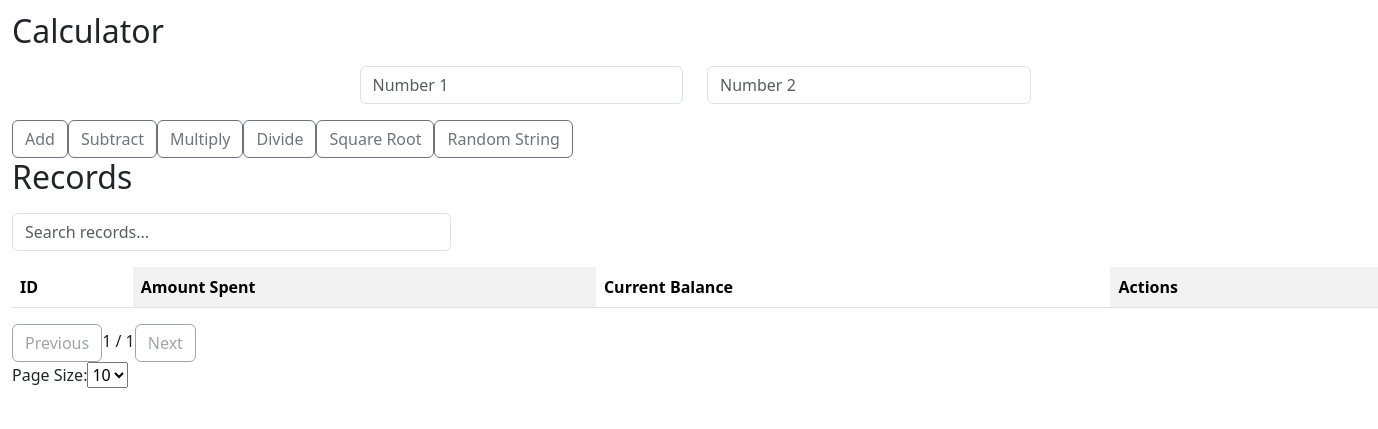
Test: handles division by zero error
This screenshot has width=1378, height=429.
Type "10" into the number field with placeholder "Number 1" at (521, 85), box [360,66,683,104]
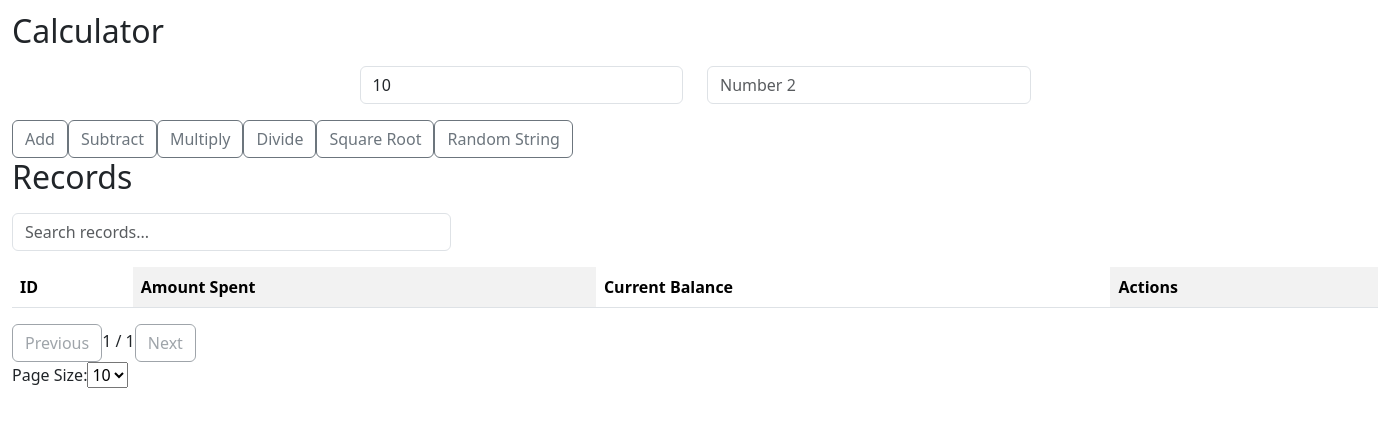
Type "0" into the number field with placeholder "Number 2" at (869, 85), box [707,66,1030,104]
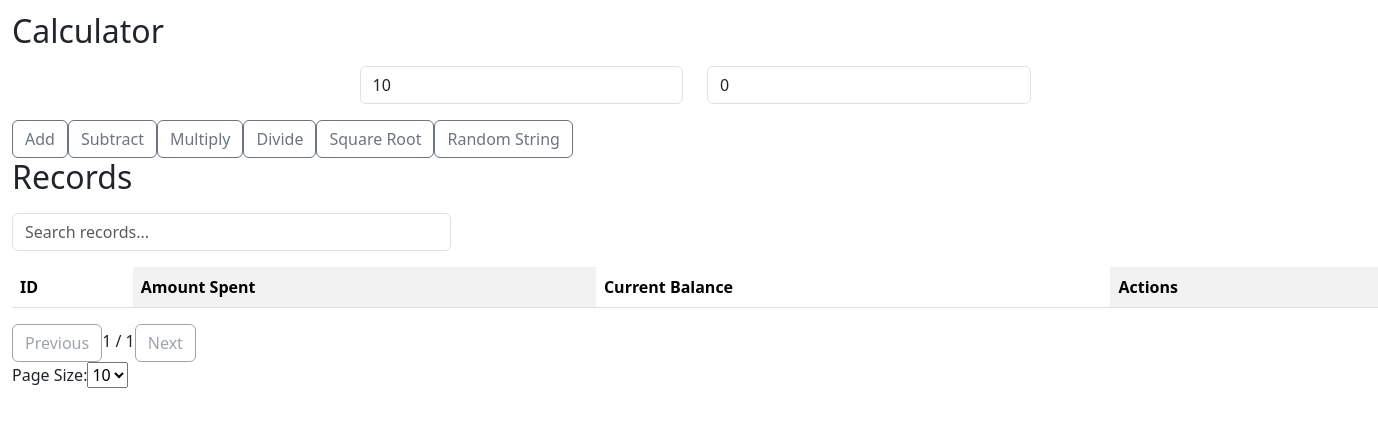
Click the button "Divide" at (280, 139), box [244,120,316,158]
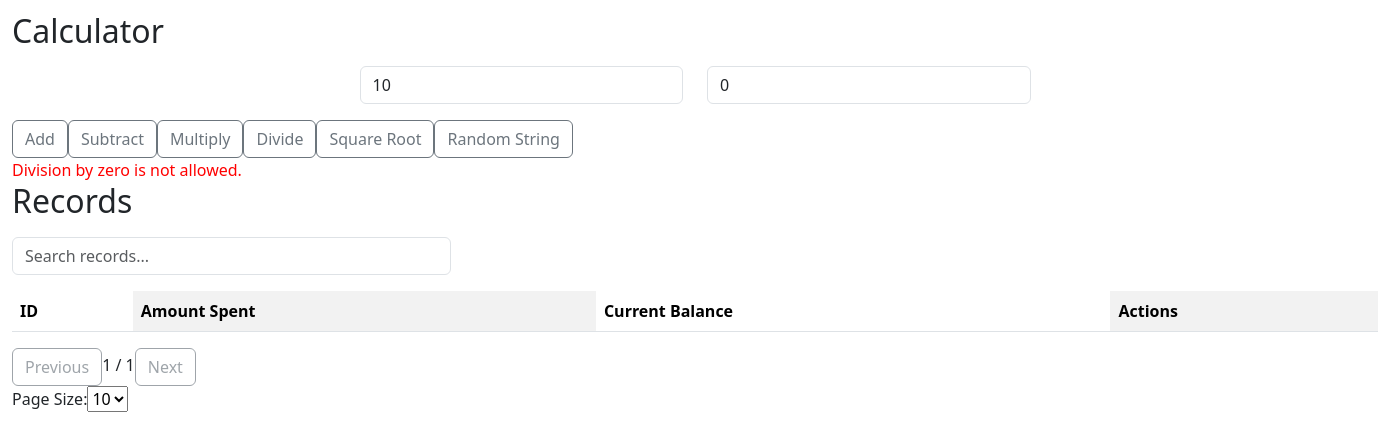
Expected: the text "Division by zero is not allowed." is shown, [12,159,242,181]
